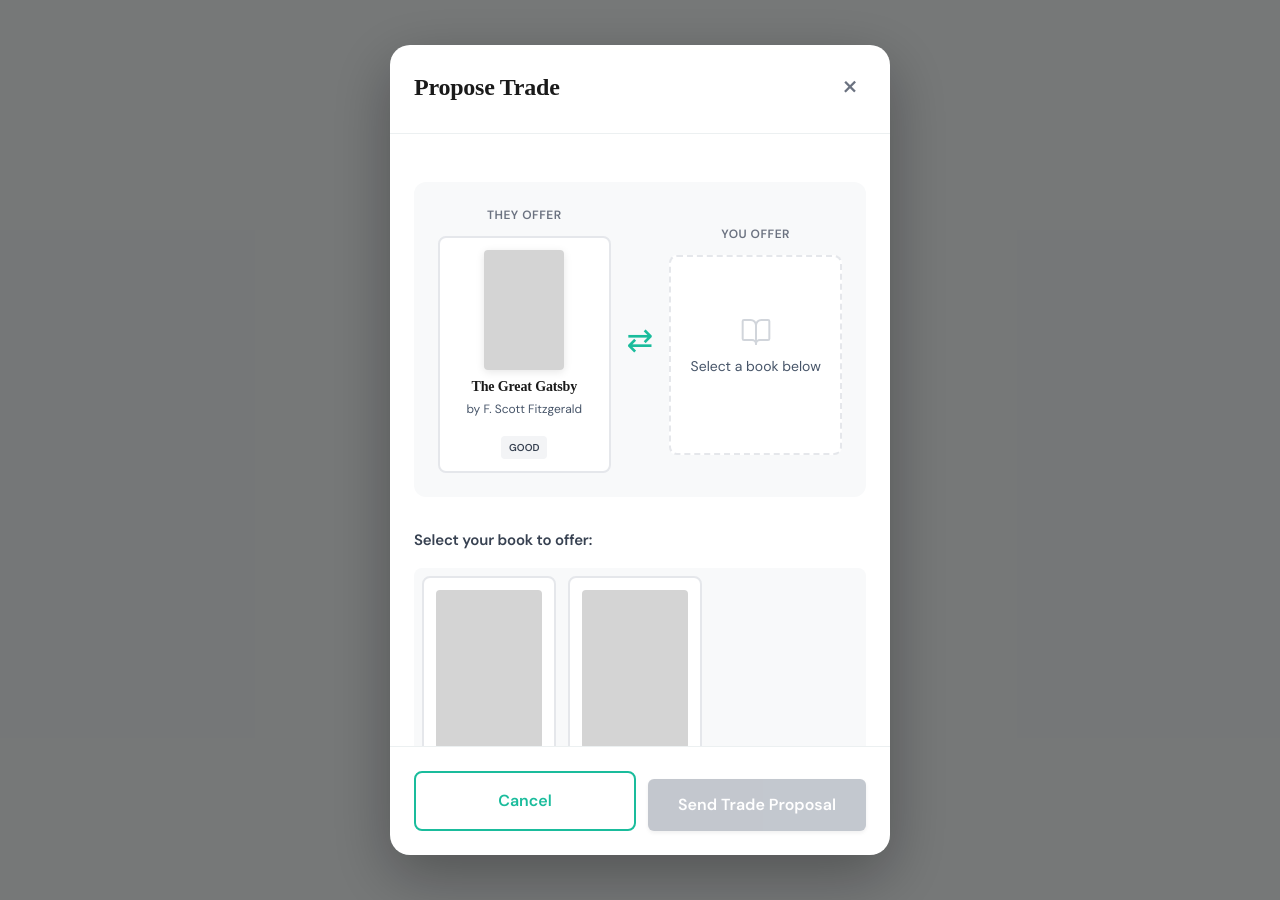
Test case: TradeProposalModal › submits trade proposal successfully
// Select a book
Click the text "To Kill a Mockingbird": [489, 705] box 422,576 -> 556,834
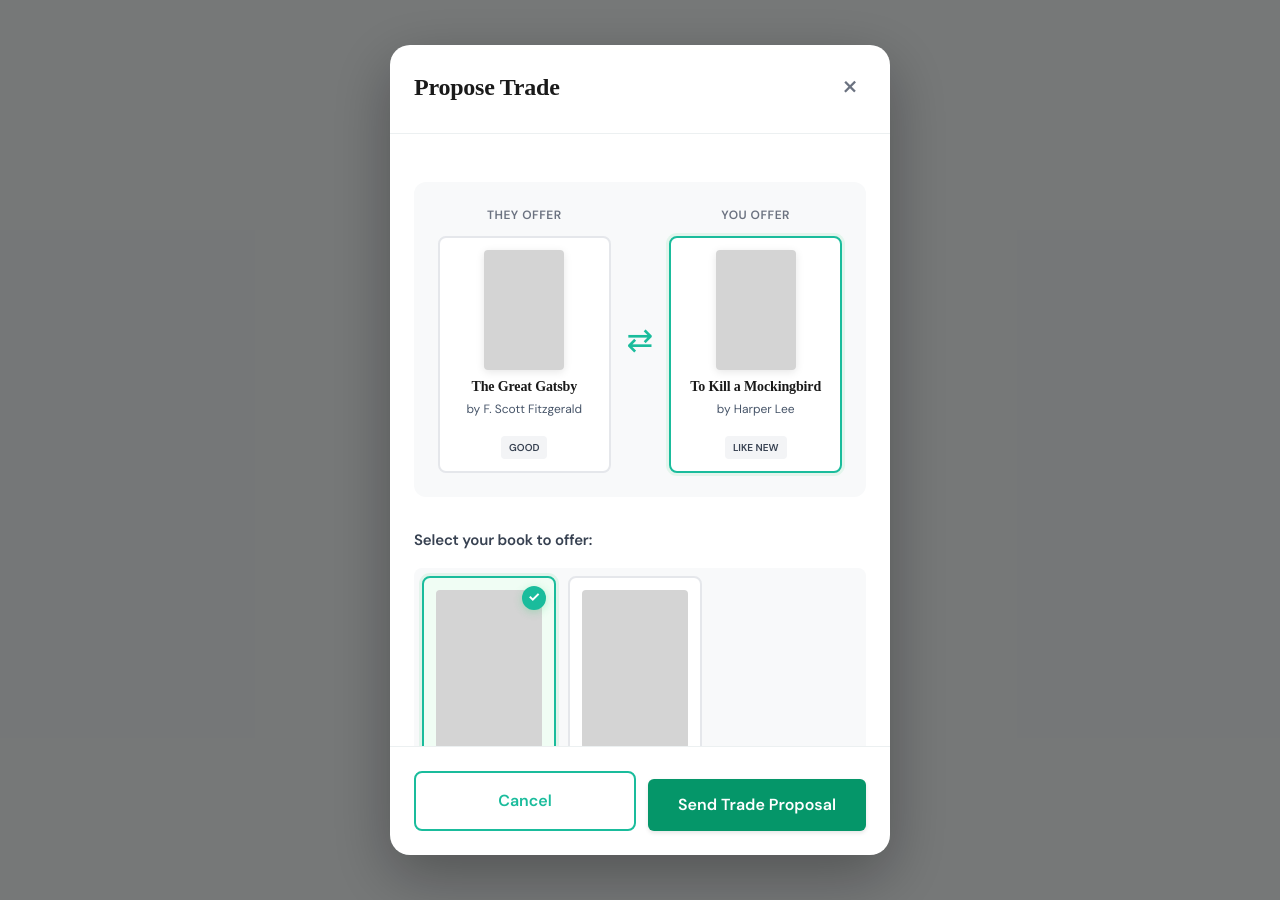
// Submit the form
Click the button "Send Trade Proposal": [757, 805] box 648,779 -> 866,831
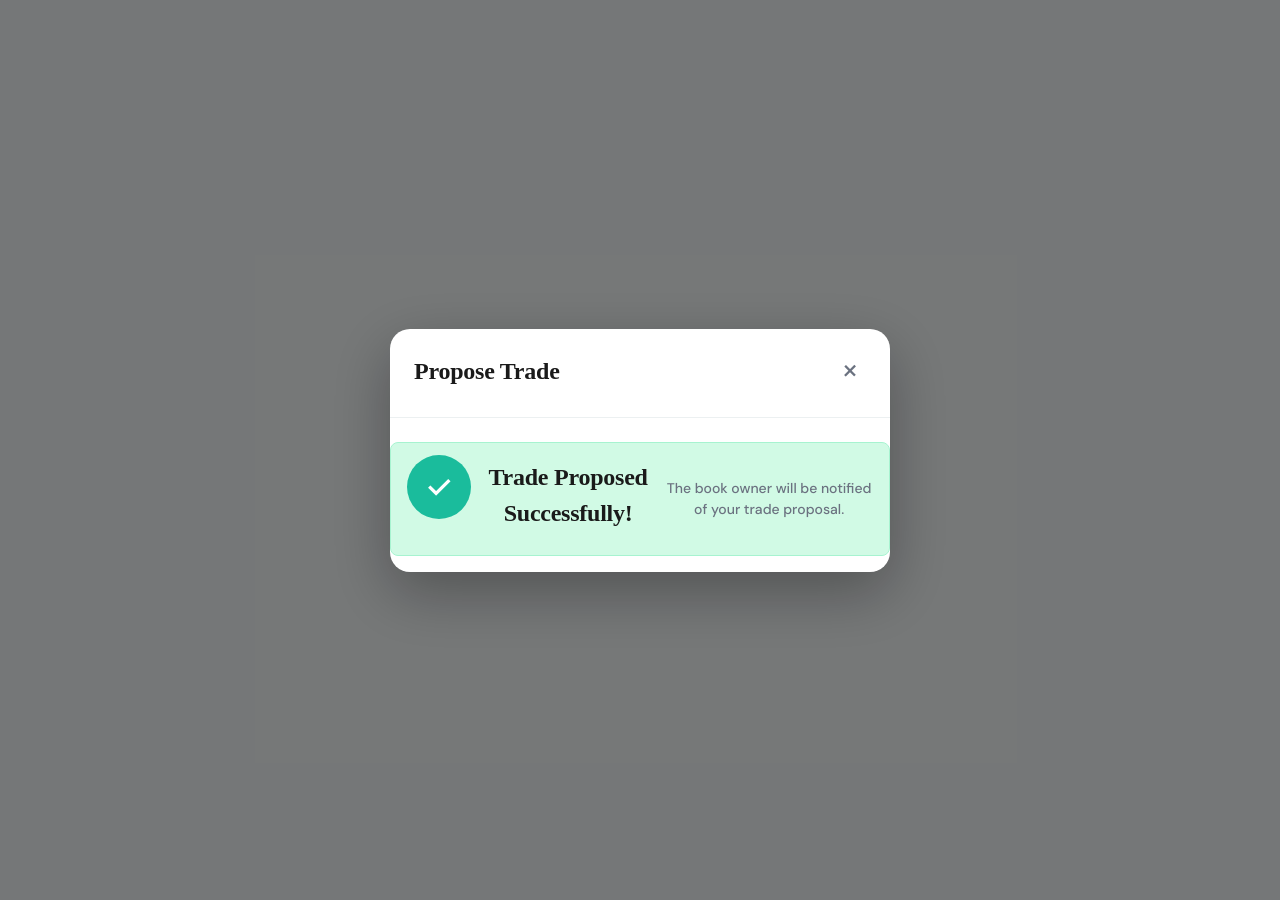
Expected: the heading "Trade Proposed Successfully!" is shown, 483,458 -> 653,530
Expected: the text "The book owner will be notified of your trade proposal." is shown, 665,478 -> 873,520
